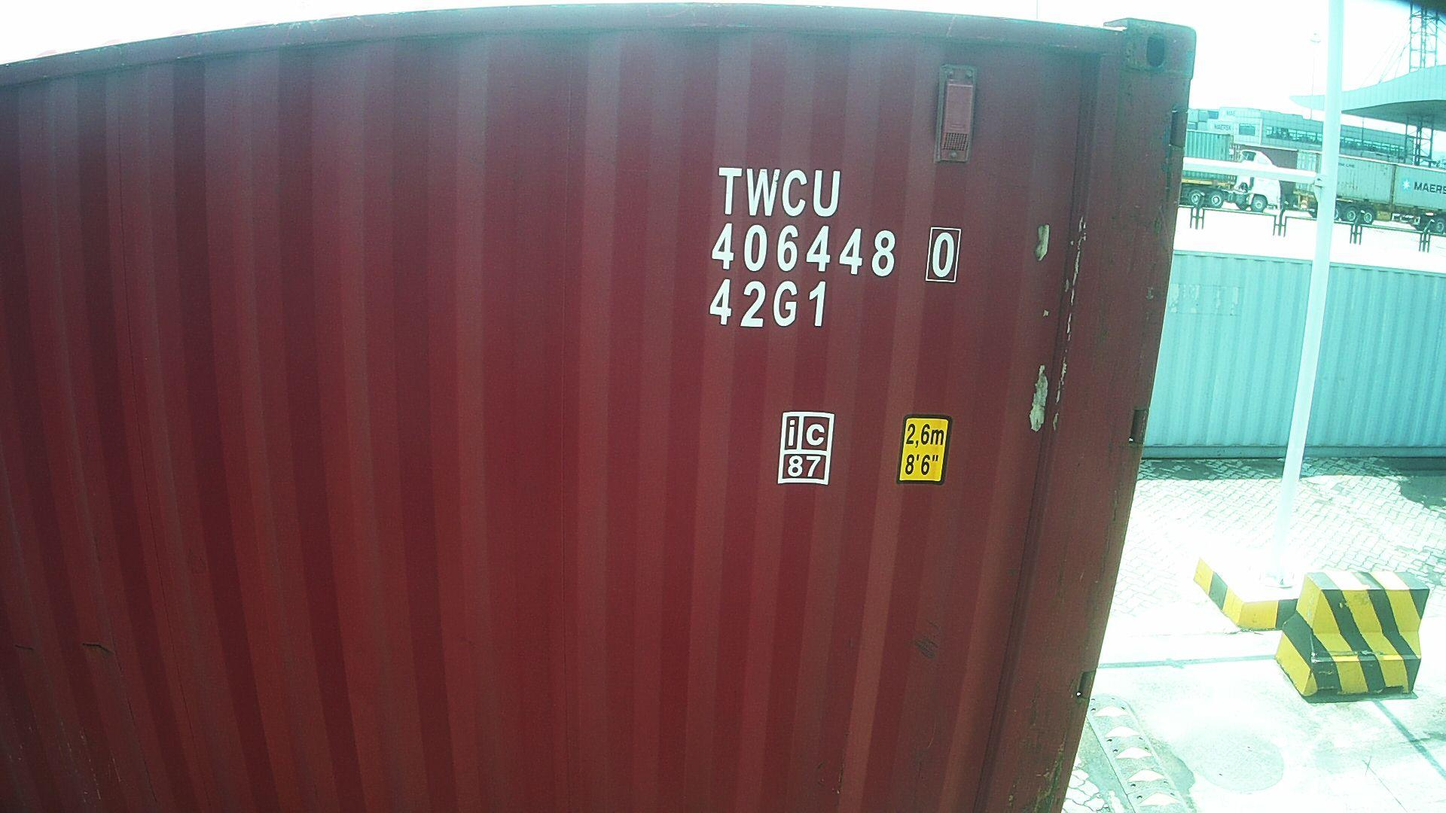container-numbers: (705, 220, 961, 285), (714, 163, 844, 220), (703, 277, 835, 331)
